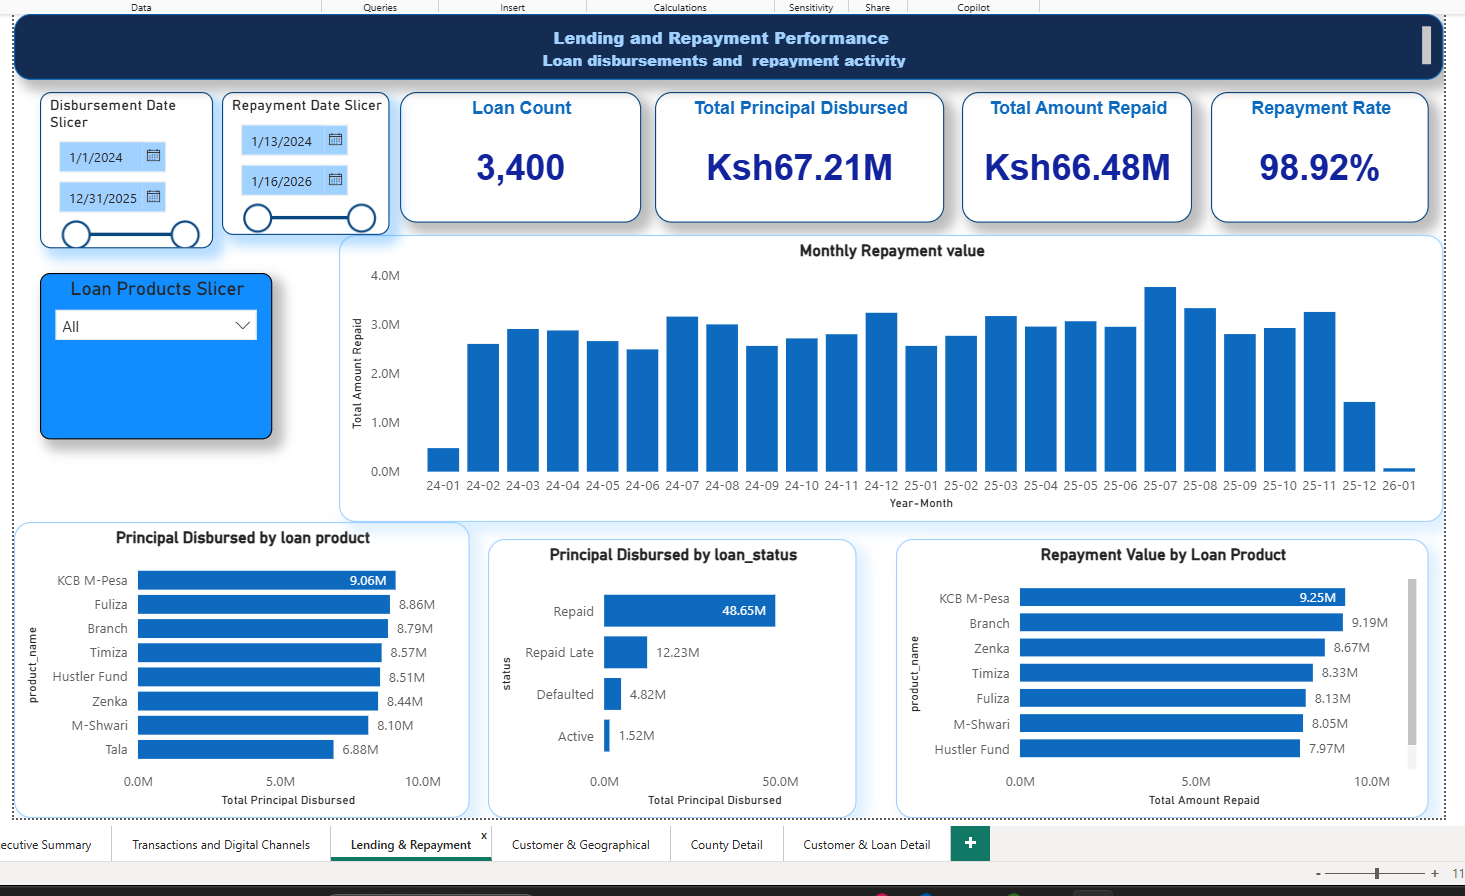

This screenshot's page, from the dashboard's own definition file:
{"tool":"powerbi","page":{"name":"Lending & Repayment","canvas":[1280,720],"ordinal":2},"visuals":[{"type":"card","title":"Loan Count","fields":{"Values":["Wekeza_Measures.Loan Count"]},"box":[345.9,69.7,215.6,116.5],"z":0},{"type":"card","title":"Total Principal Disbursed","fields":{"Values":["Wekeza_Measures.Total Principal Disbursed"]},"box":[574.4,69.7,258.8,116.5],"z":1000},{"type":"card","title":"Total Amount Repaid","fields":{"Values":["Wekeza_Measures.Total Amount Repaid"]},"box":[848.7,69.7,206.5,116.5],"z":2000},{"type":"card","title":"Repayment Rate","fields":{"Values":["Wekeza_Measures.Repayment Rate"]},"box":[1071.7,69.7,195.4,116.5],"z":3000},{"type":"clusteredBarChart","title":"Principal Disbursed by loan product","fields":{"Category":["loan_products.product_name"],"Y":["Wekeza_Measures.Total Principal Disbursed"]},"box":[0,455.1,408.3,265.2],"z":4000},{"type":"clusteredColumnChart","title":"Monthly Repayment value","fields":{"Category":["Repayment_Date_Dim.Year-Month"],"Y":["Wekeza_Measures.Total Amount Repaid"]},"box":[290.9,198.2,989.1,256.9],"z":5000},{"type":"clusteredBarChart","title":"Principal Disbursed by loan_status","fields":{"Category":["loans.status"],"Y":["Wekeza_Measures.Total Principal Disbursed"]},"box":[424.8,469.8,330.3,250.5],"z":6000},{"type":"clusteredBarChart","title":"Repayment Value by Loan Product","fields":{"Category":["loan_products.product_name"],"Y":["Wekeza_Measures.Total Amount Repaid"]},"box":[790,469.8,477.1,250.5],"z":7000},{"type":"slicer","title":"Disbursement Date Slicer","fields":{"Values":["Wekeza_Date_Dim.Date"]},"box":[22.9,69.7,155.1,140.4],"z":8000},{"type":"slicer","title":"Repayment Date Slicer","fields":{"Values":["Repayment_Date_Dim.Date"]},"box":[186.3,69.7,150.5,128.5],"z":9000},{"type":"slicer","title":"Loan Products Slicer","fields":{"Values":["loan_products.product_name"]},"box":[22.9,232.1,208.3,148.6],"z":10000},{"type":"textbox","box":[0,0,1280,58.7],"z":11000}]}

Visuals, with their boxes on the page's 1280x720 design canvas (x1, y1, x2, y2). These are canvas units, not pixel positions in the 1465x896 screenshot, which may show the page scaled, cropped or inside an application window:
"Loan Count" card: bbox(346, 70, 562, 186)
"Total Principal Disbursed" card: bbox(574, 70, 833, 186)
"Total Amount Repaid" card: bbox(849, 70, 1055, 186)
"Repayment Rate" card: bbox(1072, 70, 1267, 186)
"Principal Disbursed by loan product" clusteredBarChart: bbox(0, 455, 408, 720)
"Monthly Repayment value" clusteredColumnChart: bbox(291, 198, 1280, 455)
"Principal Disbursed by loan_status" clusteredBarChart: bbox(425, 470, 755, 720)
"Repayment Value by Loan Product" clusteredBarChart: bbox(790, 470, 1267, 720)
"Disbursement Date Slicer" slicer: bbox(23, 70, 178, 210)
"Repayment Date Slicer" slicer: bbox(186, 70, 337, 198)
"Loan Products Slicer" slicer: bbox(23, 232, 231, 381)
textbox: bbox(0, 0, 1280, 59)
